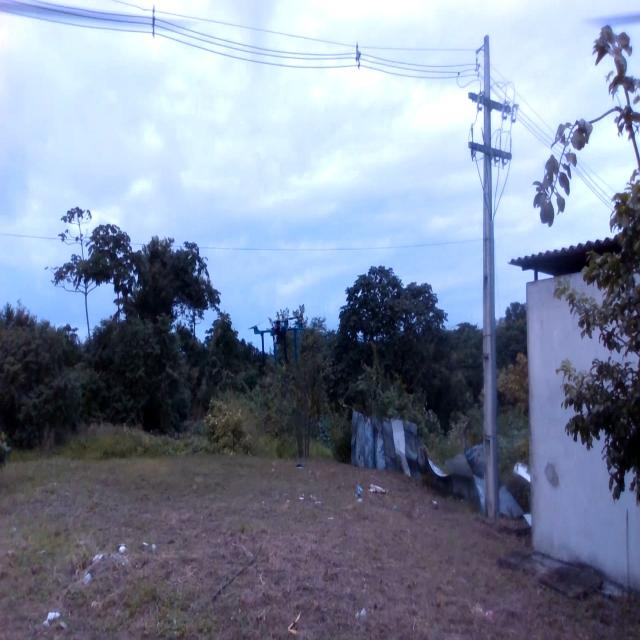-uav-: (239, 307, 318, 372)
